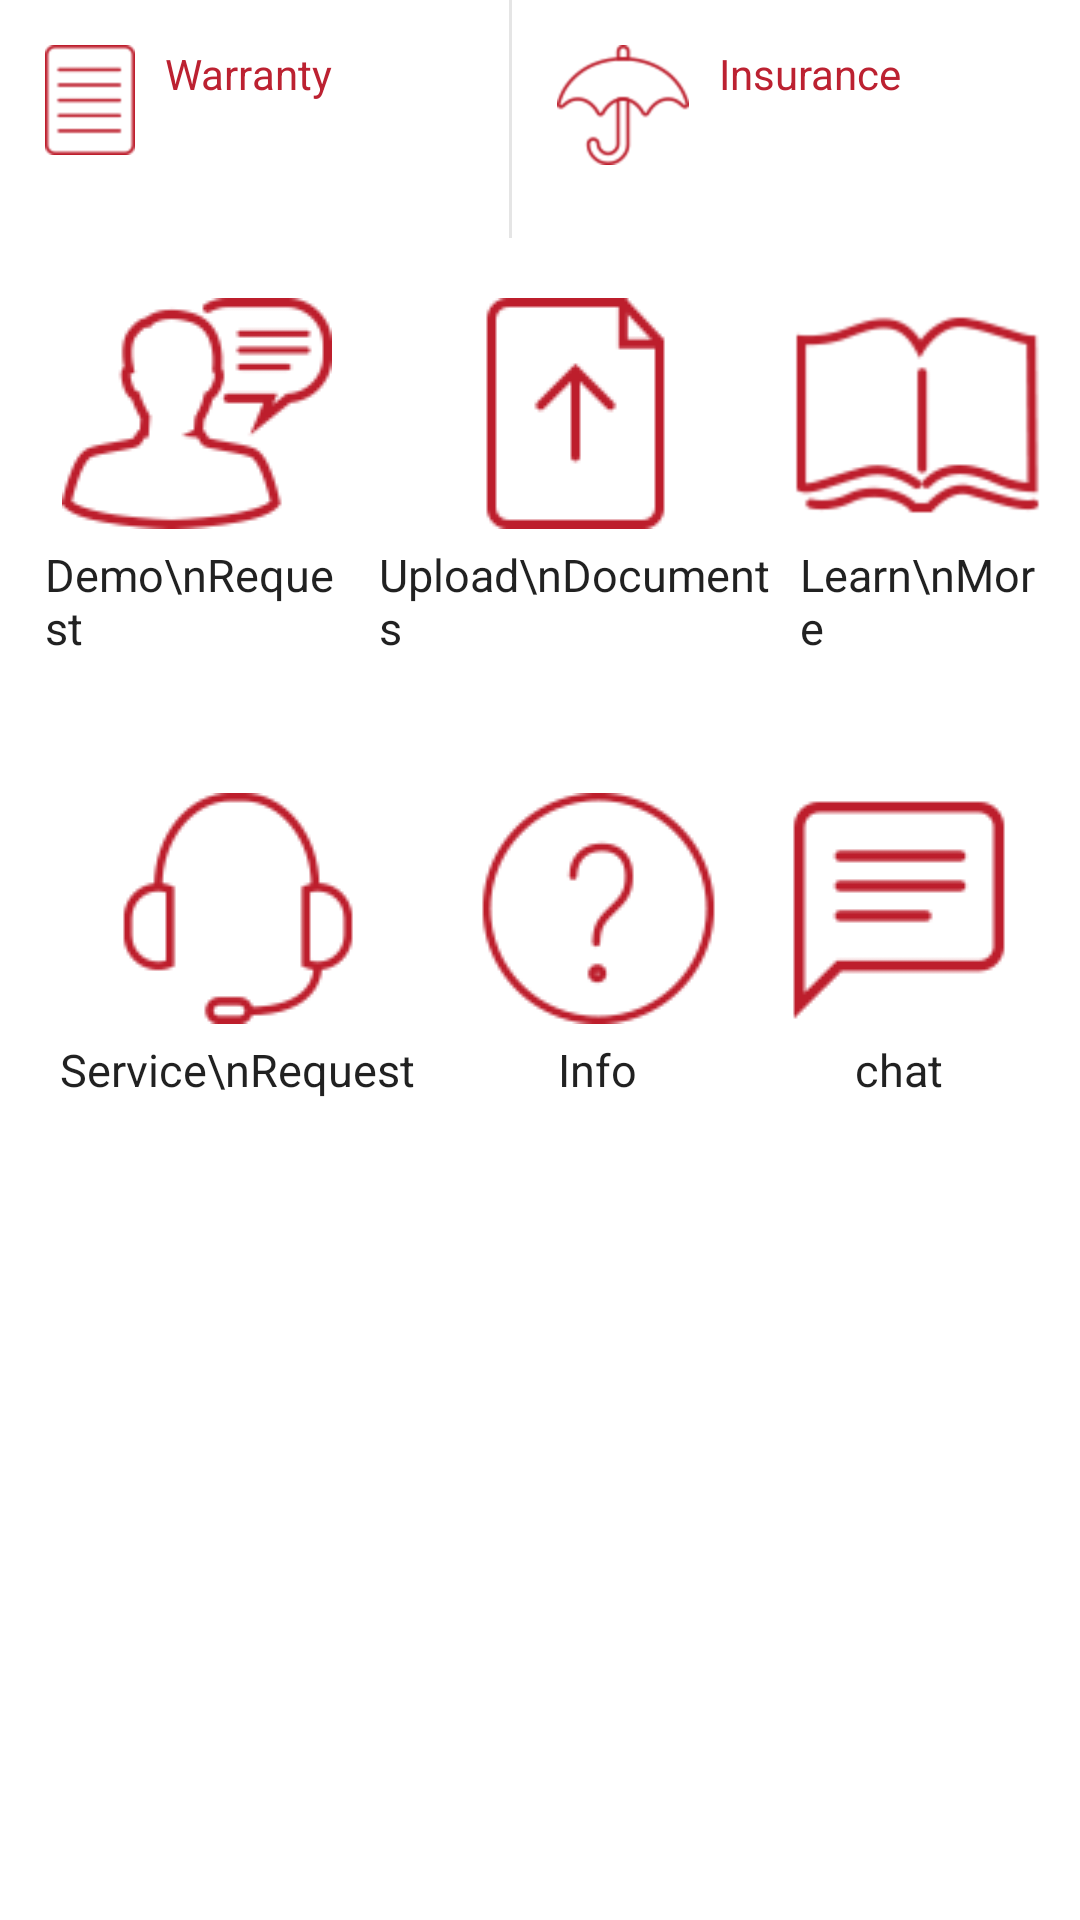

Named icons in this screenshot (1080w x 1920h) and their bounding boxes, (x1, y1, x2, y2):
product manual: (796, 317, 1039, 513)
trouble shoot: (482, 793, 715, 1024)
